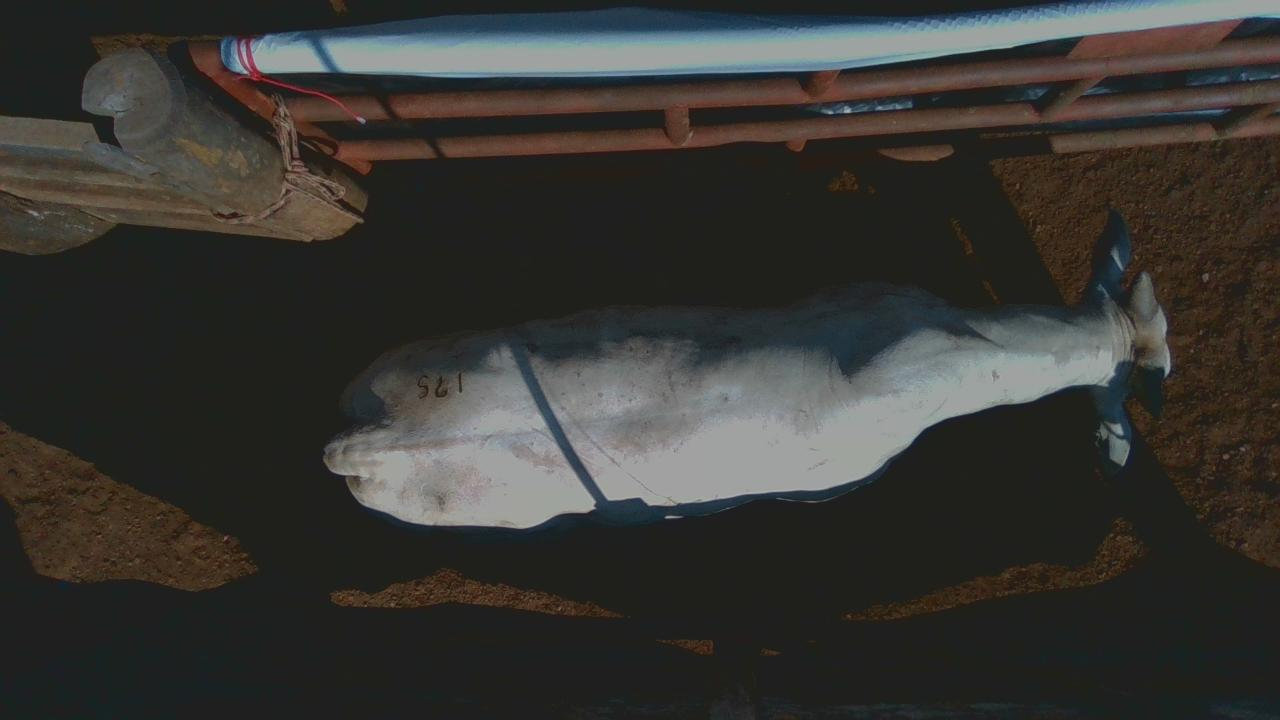cattle: (321, 207, 1172, 532)
